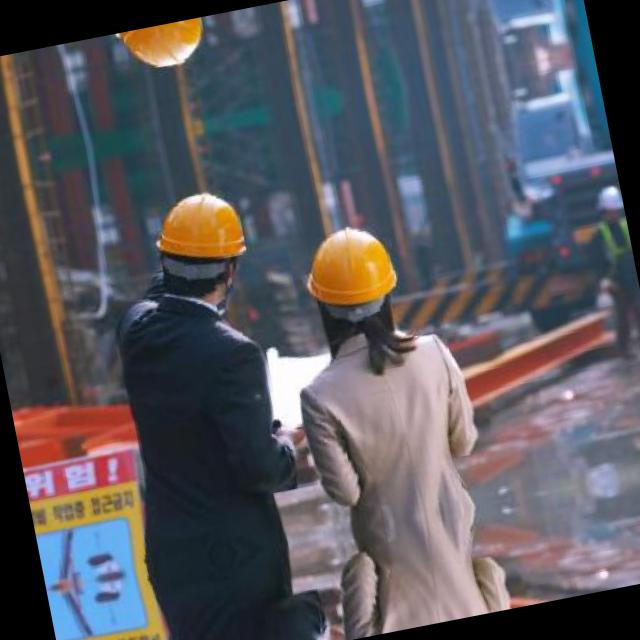helmet: (292, 205, 410, 352), (138, 172, 256, 312), (105, 16, 214, 90)
